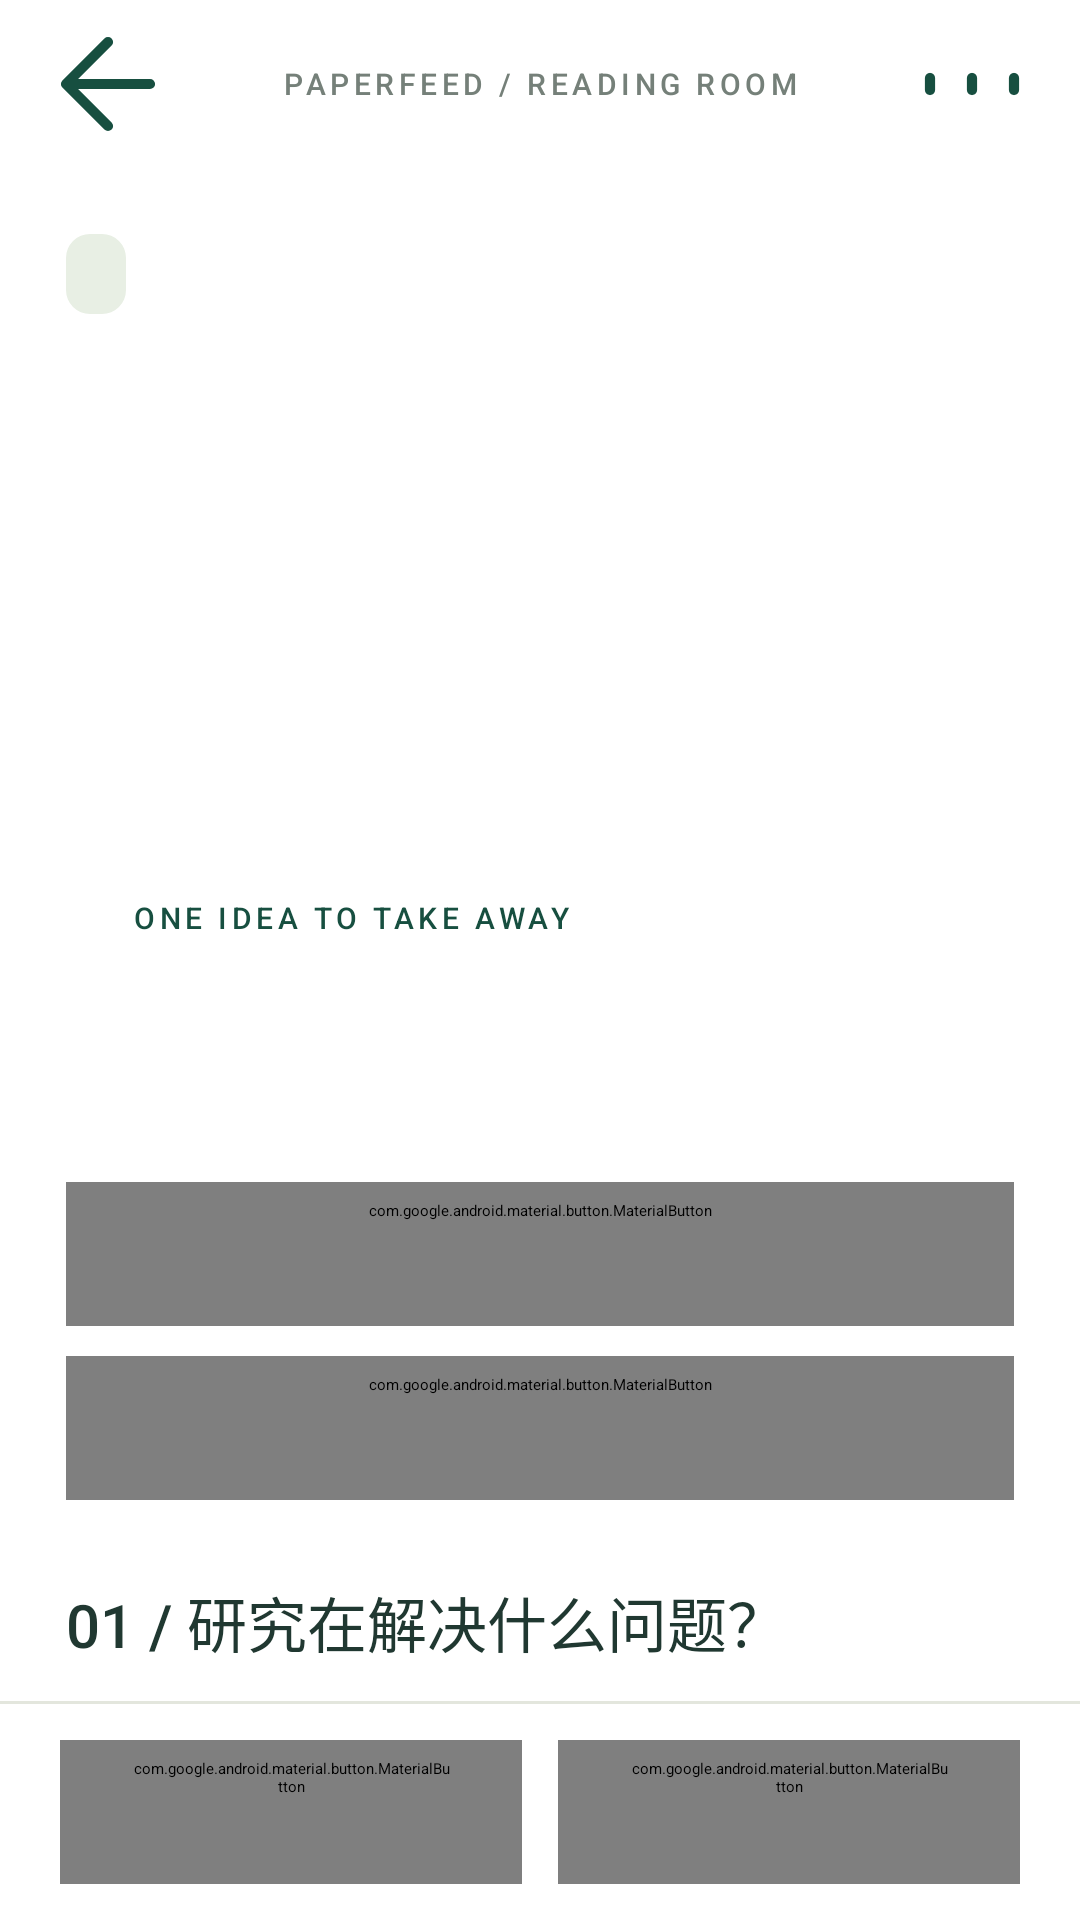

Locate icon controls on the screen. Image size 1080 × 1920, boxes as (x1, y1, x2, y2).
更多操作: (925, 73, 1019, 95)
返回: (61, 37, 155, 131)
